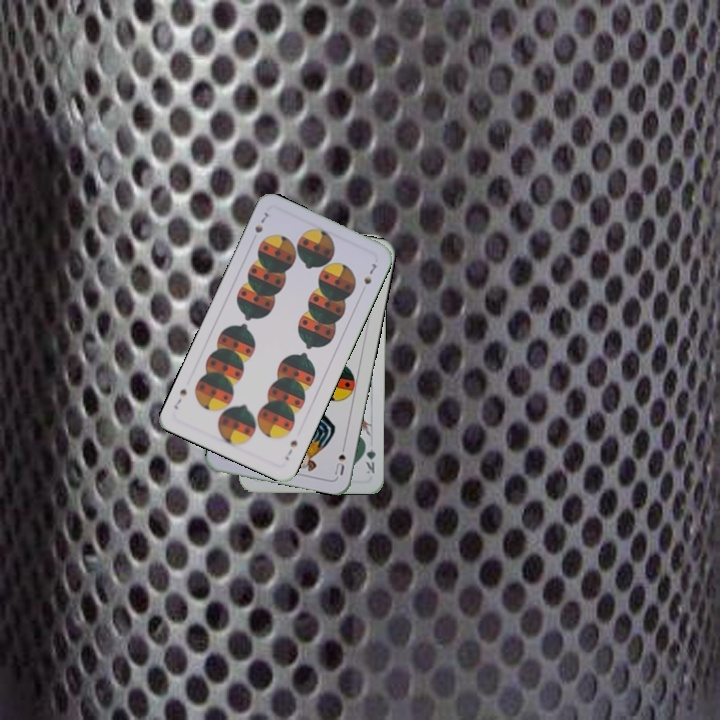GK: (361, 437, 378, 476)
S7: (250, 208, 271, 236), (281, 436, 300, 463)
SU: (330, 439, 348, 478)
